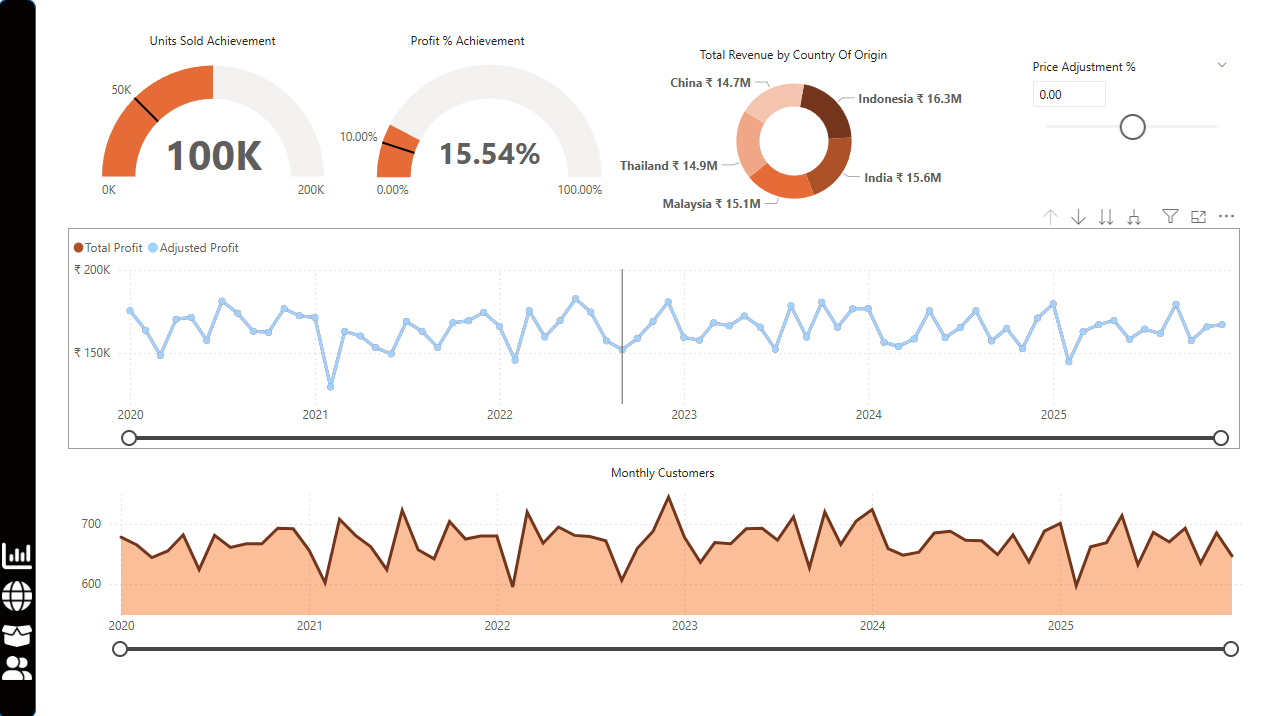

This screenshot's page, from the dashboard's own definition file:
{"tool":"powerbi","page":{"name":"Product Details","canvas":[1280,720],"ordinal":2},"visuals":[{"type":"donutChart","title":"Total Revenue by Country Of Origin","fields":{"Category":["cars.CountryOfOrigin"],"Y":["Measure Table.Total Revenue"]},"box":[618.9,46.7,354.4,174.4],"z":0},{"type":"actionButton","box":[0,536.7,37.8,40],"z":0,"group":"g1"},{"type":"gauge","title":"Profit % Achievement","fields":{"Y":["Measure Table.Profit %"],"TargetValue":["Measure Table.Profit Target %"]},"box":[331.1,33.3,277.8,187.8],"z":1000},{"type":"actionButton","box":[0,648.9,37.8,40],"z":1000,"group":"g1"},{"type":"gauge","title":"Units Sold Achievement","fields":{"Y":["Measure Table.Total Units Sold"],"TargetValue":["Measure Table.Units Sold Target"]},"box":[98.9,33.3,232.2,187.8],"z":2000},{"type":"actionButton","box":[0,576.7,37.8,40],"z":2000,"group":"g1"},{"type":"lineChart","title":"Monthly Profit","fields":{"Category":["date_table.StartOfMonth","date_table.StartOfWeek","date_table.StartOfYear"],"Y":["Measure Table.Total Profit","Measure Table.Adjusted Profit"]},"box":[70,228.9,1172.2,221.1],"z":3000},{"type":"actionButton","box":[0,616.7,37.8,40],"z":3000,"group":"g1"},{"type":"shape","title":"Navigation BG","box":[0,0,37.8,720],"z":4000},{"type":"areaChart","title":"Monthly Customers","fields":{"Category":["date_table.StartOfMonth"],"Y":["Measure Table.Total Customers"]},"box":[78.4,464.8,1173.9,196.6],"z":5000},{"type":"group","id":"g1","title":"Group 1","box":[0,536.7,37.8,152.2],"z":6000},{"type":"slicer","fields":{"Values":["Price Adjustment %.Price Adjustment %"]},"box":[1022.2,54.4,220,111.1],"z":7000}]}

Visuals, with their boxes on the page's 1280x720 design canvas (x1, y1, x2, y2). These are canvas units, not pixel positions in the 1277x716 screenshot, which may show the page scaled, cropped or inside an application window:
"Total Revenue by Country Of Origin" donutChart: [x1=619, y1=47, x2=973, y2=221]
actionButton: [x1=0, y1=537, x2=38, y2=577]
"Profit % Achievement" gauge: [x1=331, y1=33, x2=609, y2=221]
actionButton: [x1=0, y1=649, x2=38, y2=689]
"Units Sold Achievement" gauge: [x1=99, y1=33, x2=331, y2=221]
actionButton: [x1=0, y1=577, x2=38, y2=617]
"Monthly Profit" lineChart: [x1=70, y1=229, x2=1242, y2=450]
actionButton: [x1=0, y1=617, x2=38, y2=657]
"Navigation BG" shape: [x1=0, y1=0, x2=38, y2=720]
"Monthly Customers" areaChart: [x1=78, y1=465, x2=1252, y2=661]
"Group 1" group: [x1=0, y1=537, x2=38, y2=689]
slicer - Price Adjustment %.Price Adjustment %: [x1=1022, y1=54, x2=1242, y2=166]
